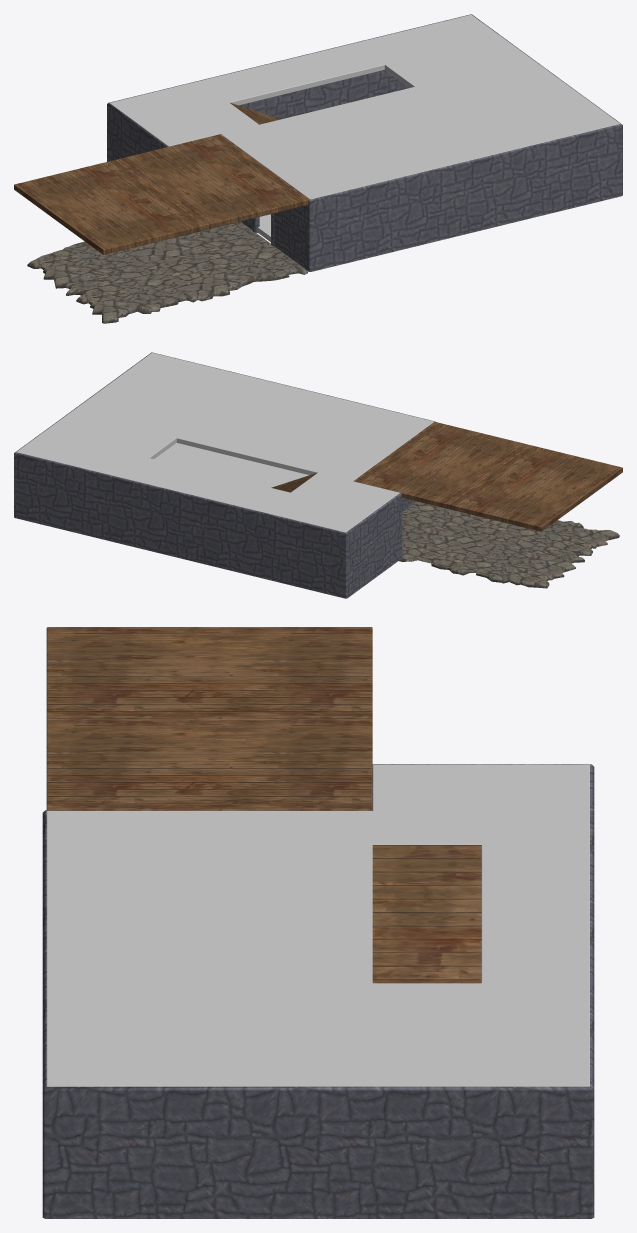
3 renders of one model, top to bottom at view 1: azimuth 30°, elevation 25°; view 2: azimuth 150°, elevation 25°; view 3: azimuth 270°, elevation 25°, orthographic. The views are drawn at different scales.
Visible parts, largest first — view 1: HeadFloor.005, Plane.010, Plane.117, Plane.020; view 2: HeadFloor.005, Plane.010, Plane.117, Plane.020, HeadFloor.001; view 3: HeadFloor.005, Plane.010, Plane.117, HeadFloor.008.
Boxes of the visible parts, x1,y1,x2,y2 form: HeadFloor.005: (110, 14, 619, 199); Plane.010: (107, 14, 622, 271); Plane.117: (14, 134, 309, 254); Plane.020: (27, 221, 307, 323); HeadFloor.005: (16, 352, 433, 532); Plane.010: (14, 352, 435, 598); Plane.117: (354, 422, 622, 531); Plane.020: (399, 501, 619, 588); HeadFloor.001: (154, 443, 308, 487); HeadFloor.005: (47, 765, 589, 1086); Plane.010: (42, 764, 594, 1218); Plane.117: (46, 627, 372, 810); HeadFloor.008: (372, 845, 481, 983).
Size of what is drawn, in the model's own units: 40.15 by 5.58 by 20.29.
